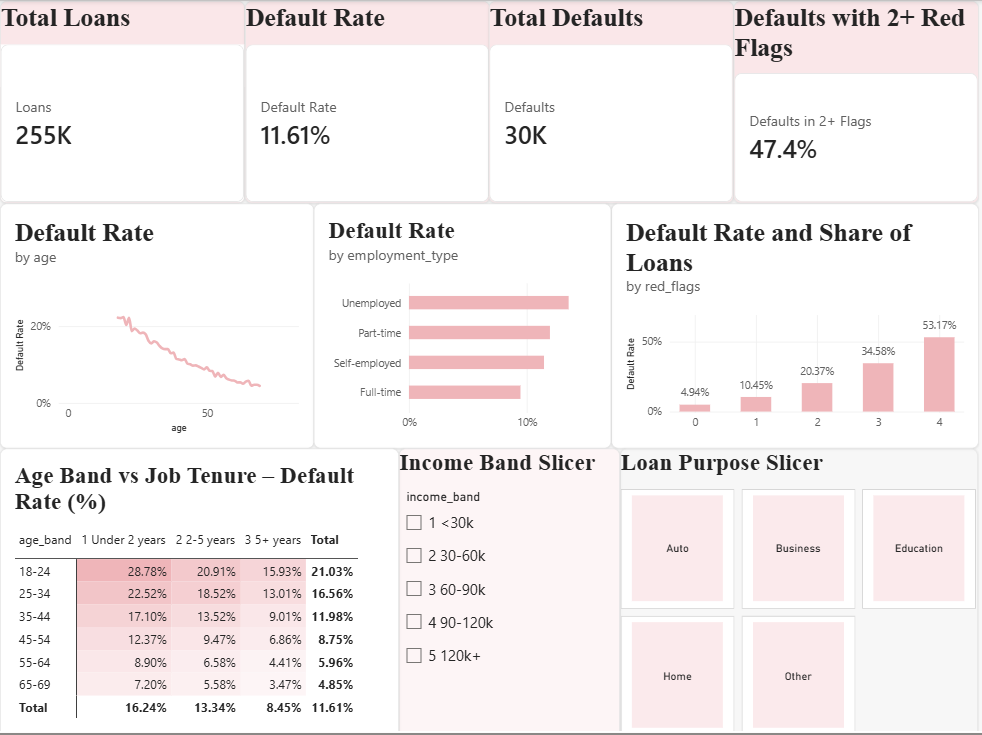

Layout of this report page (visuals, bound fields, positions):
{"tool":"powerbi","page":{"name":"Page 1","canvas":[1920,1080],"ordinal":0},"visuals":[{"type":"cardVisual","title":"Total Loans","fields":{"Data":["loans.Loans"]},"box":[0,0,280,231.4],"z":0},{"type":"cardVisual","title":"Default Rate","fields":{"Data":["loans.Default Rate"]},"box":[280,0,280,231.4],"z":1},{"type":"cardVisual","title":"Total Defaults","fields":{"Data":["loans.Defaults"]},"box":[558.6,0,280,231.4],"z":2},{"type":"cardVisual","title":"Defaults with 2+ Red Flags","fields":{"Data":["loans.Defaults in 2+ Flags"]},"box":[838.6,0,280,231.4],"z":3},{"type":"clusteredColumnChart","fields":{"Category":["loans.red_flags"],"Y":["loans.Default Rate"]},"box":[698.6,231.4,420,280],"z":4},{"type":"lineChart","fields":{"Category":["loans.age"],"Y":["loans.Default Rate"]},"box":[0,231.4,358.9,280],"z":5},{"type":"clusteredBarChart","fields":{"Category":["loans.employment_type"],"Y":["loans.Default Rate"]},"box":[358.6,231.4,340,280],"z":6},{"type":"advancedSlicerVisual","title":"Loan Purpose Slicer","fields":{"Values":["loans.loan_purpose"]},"box":[708.6,511.4,408.6,331.4],"z":7},{"type":"slicer","title":"Income Band Slicer","fields":{"Values":["loans.income_band"]},"box":[455.7,511.4,252.9,331.4],"z":8},{"type":"pivotTable","title":"Age Band vs Job Tenure – Default Rate (%)","fields":{"Columns":["loans.job_tenure"],"Rows":["loans.age_band"],"Values":["loans.Default Rate"]},"box":[0,511.4,455.7,331.4],"z":9}]}

Visuals, with their boxes on the page's 1920x1080 design canvas (x1, y1, x2, y2). These are canvas units, not pixel positions in the 982x735 screenshot, which may show the page scaled, cropped or inside an application window:
"Total Loans" cardVisual: [left=0, top=0, right=280, bottom=231]
"Default Rate" cardVisual: [left=280, top=0, right=560, bottom=231]
"Total Defaults" cardVisual: [left=559, top=0, right=839, bottom=231]
"Defaults with 2+ Red Flags" cardVisual: [left=839, top=0, right=1119, bottom=231]
clusteredColumnChart - loans.red_flags x loans.Default Rate: [left=699, top=231, right=1119, bottom=511]
lineChart - loans.age x loans.Default Rate: [left=0, top=231, right=359, bottom=511]
clusteredBarChart - loans.employment_type x loans.Default Rate: [left=359, top=231, right=699, bottom=511]
"Loan Purpose Slicer" advancedSlicerVisual: [left=709, top=511, right=1117, bottom=843]
"Income Band Slicer" slicer: [left=456, top=511, right=709, bottom=843]
"Age Band vs Job Tenure – Default Rate (%)" pivotTable: [left=0, top=511, right=456, bottom=843]
